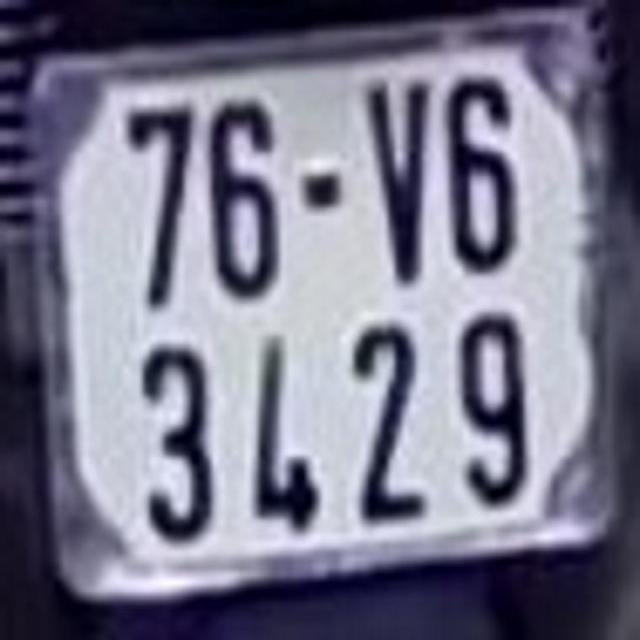2: (346, 306, 434, 532)
3: (135, 329, 224, 546)
4: (247, 320, 324, 541)
6: (202, 74, 292, 304), (444, 58, 532, 279)
7: (112, 94, 202, 308)
9: (453, 296, 539, 507)
V: (356, 52, 438, 286)
